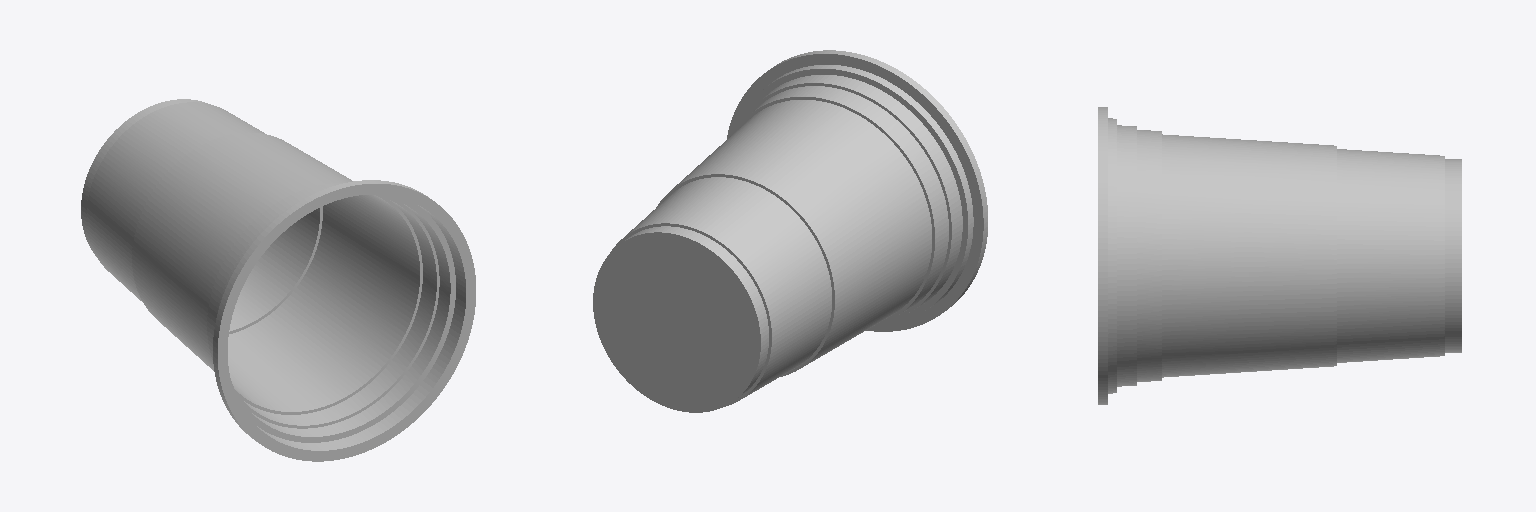
Rendered from cup_red.obj.
The picture shows the model from 3 angles: view 1: azimuth 30°, elevation 25°; view 2: azimuth 150°, elevation 25°; view 3: azimuth 270°, elevation 25°; orthographic projection.
Parts seen in each view (by area): view 1: Body1; view 2: Body1; view 3: Body1.
Part boxes in pixels (left/top/right/bottom): Body1: left=81, top=99, right=475, bottom=461; Body1: left=593, top=50, right=987, bottom=412; Body1: left=1098, top=107, right=1461, bottom=404.
Bounding box in the file's own units: 0.094 × 0.094 × 0.1145.